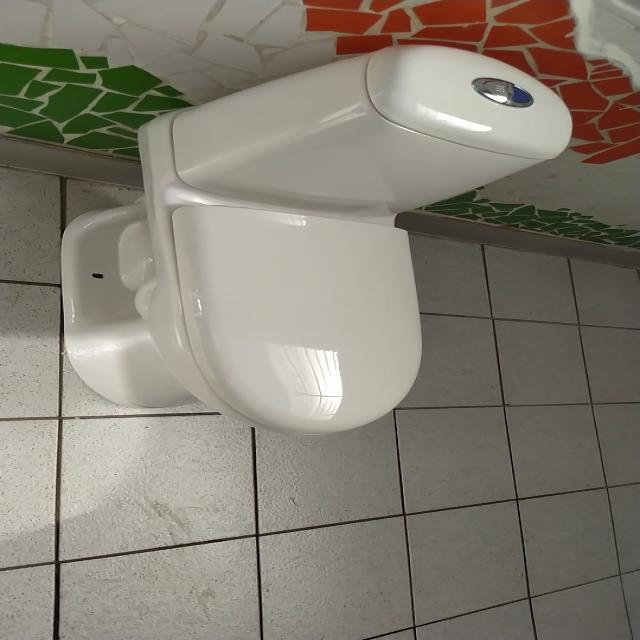toilet: (59, 43, 573, 436)
